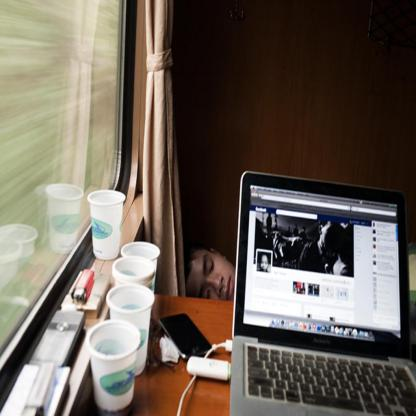board: (230, 171, 416, 416), (88, 318, 140, 412), (107, 282, 154, 374), (88, 188, 126, 259), (121, 242, 161, 294), (112, 258, 157, 289), (72, 270, 95, 303)
